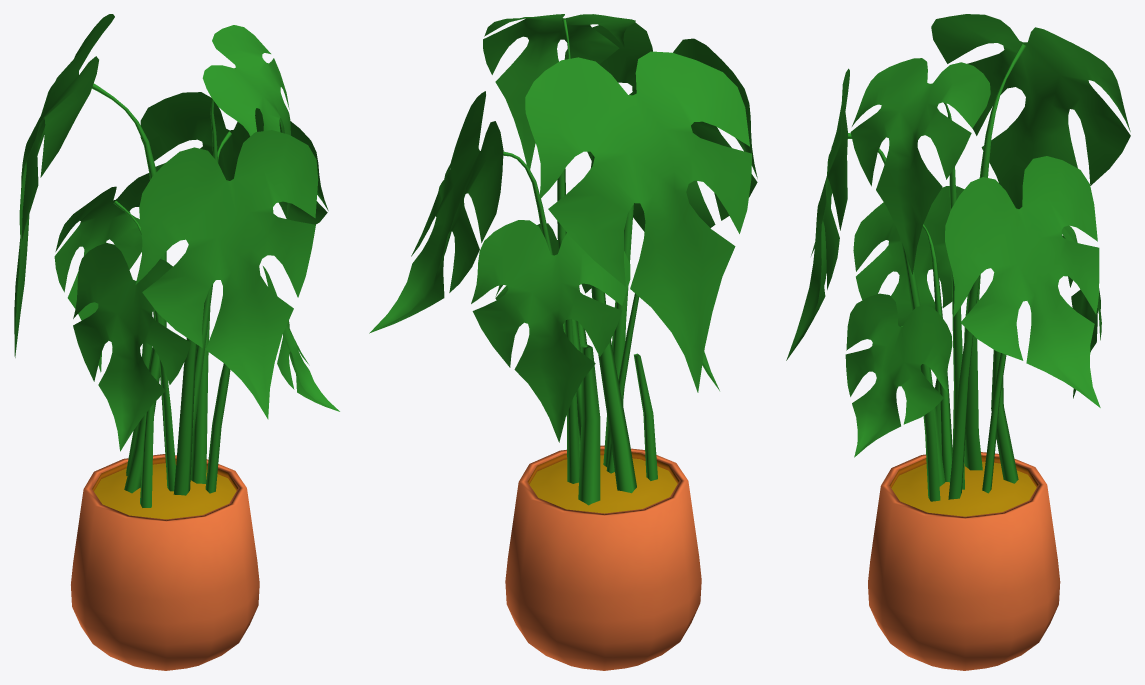
Rendered from plantpot_test.glb.
3 views of the same model, side by side, from view 1: azimuth 30°, elevation 25°; view 2: azimuth 150°, elevation 25°; view 3: azimuth 270°, elevation 25° (orthographic). The views are drawn at different scales.
Visible parts, largest first — view 1: Flowerpot_B_00.001; view 2: Flowerpot_B_00.001; view 3: Flowerpot_B_00.001.
Part boxes in pixels (x1=…): Flowerpot_B_00.001: x1=14, y1=14, x2=339, y2=670; Flowerpot_B_00.001: x1=369, y1=14, x2=757, y2=670; Flowerpot_B_00.001: x1=786, y1=14, x2=1130, y2=670.
Size of the model in its own units: 1.37 by 2.63 by 1.34.
1 material, 1 textured.
